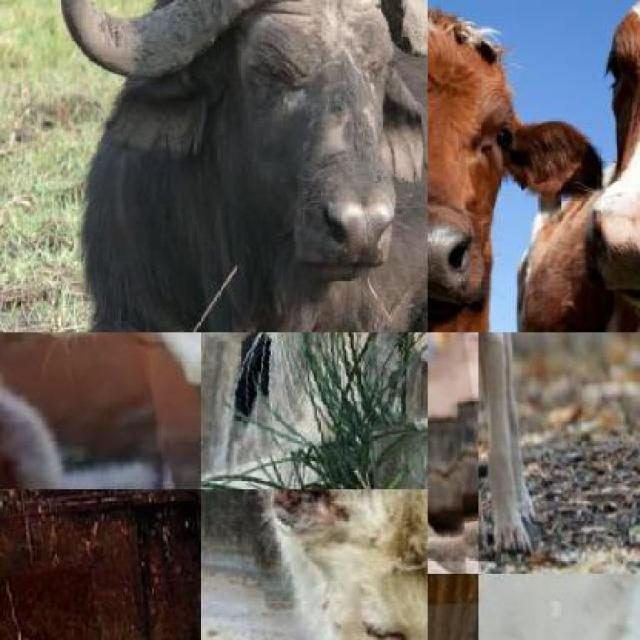buffalo: (75, 0, 427, 332)
cat: (208, 489, 428, 640), (200, 332, 428, 477)
cow: (427, 0, 526, 332), (592, 0, 639, 332), (0, 564, 144, 640)
dog: (0, 332, 178, 489), (478, 332, 590, 557)
injured: (266, 489, 371, 586)
